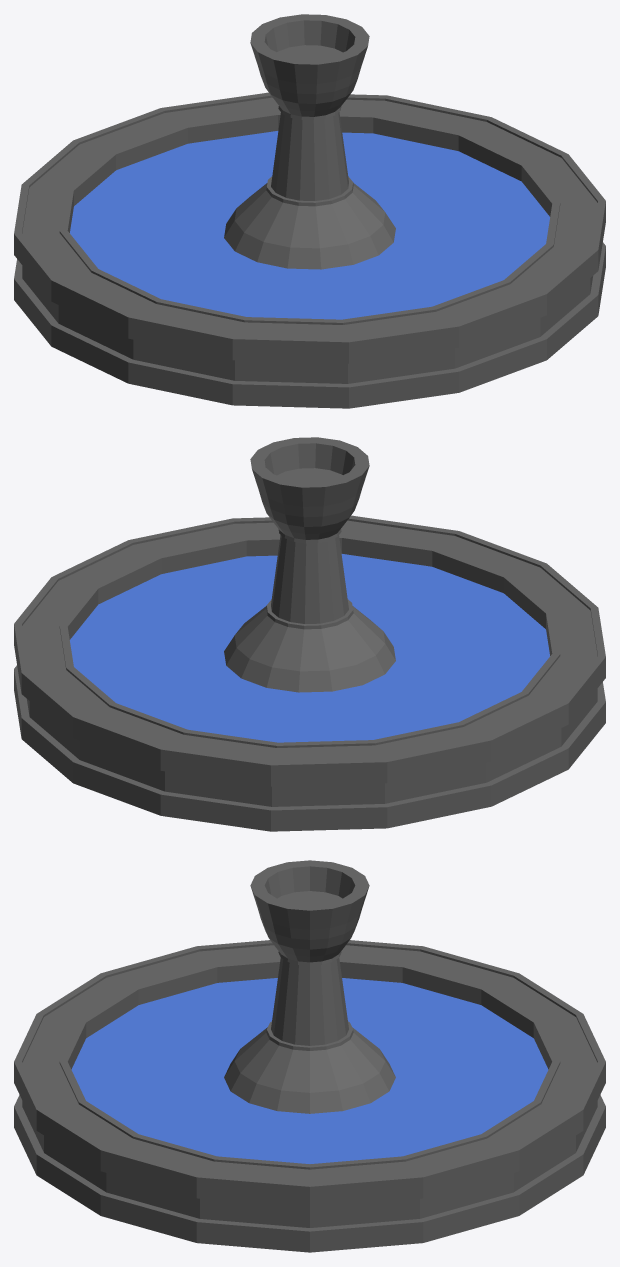
Rendered from VillageFountain.fbx.
3 renders of one model, top to bottom at view 1: azimuth 30°, elevation 25°; view 2: azimuth 150°, elevation 25°; view 3: azimuth 270°, elevation 25°, orthographic.
Visible parts, largest first — view 1: Circle; view 2: Circle; view 3: Circle.
Boxes of the visible parts, x1=… form: Circle: x1=14, y1=14, x2=605, y2=408; Circle: x1=14, y1=437, x2=605, y2=831; Circle: x1=14, y1=860, x2=605, y2=1252.
Bounding box in the file's own units: 527 × 238 × 527.
